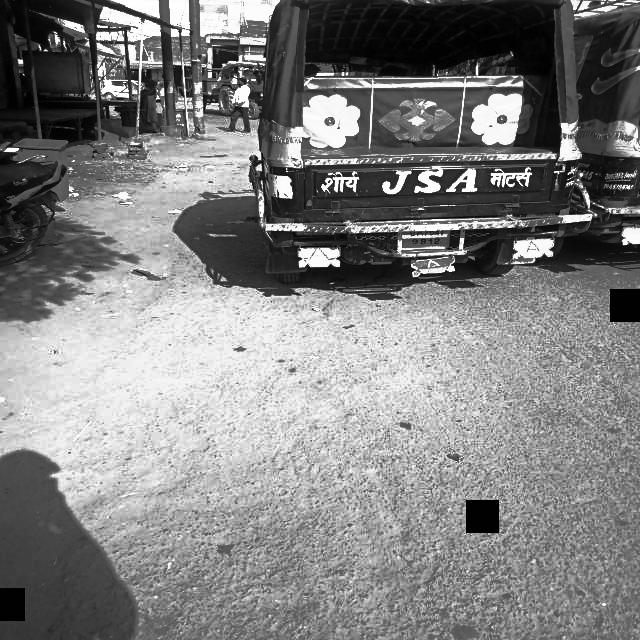Auto-Rickshaw: (251, 5, 595, 295)
